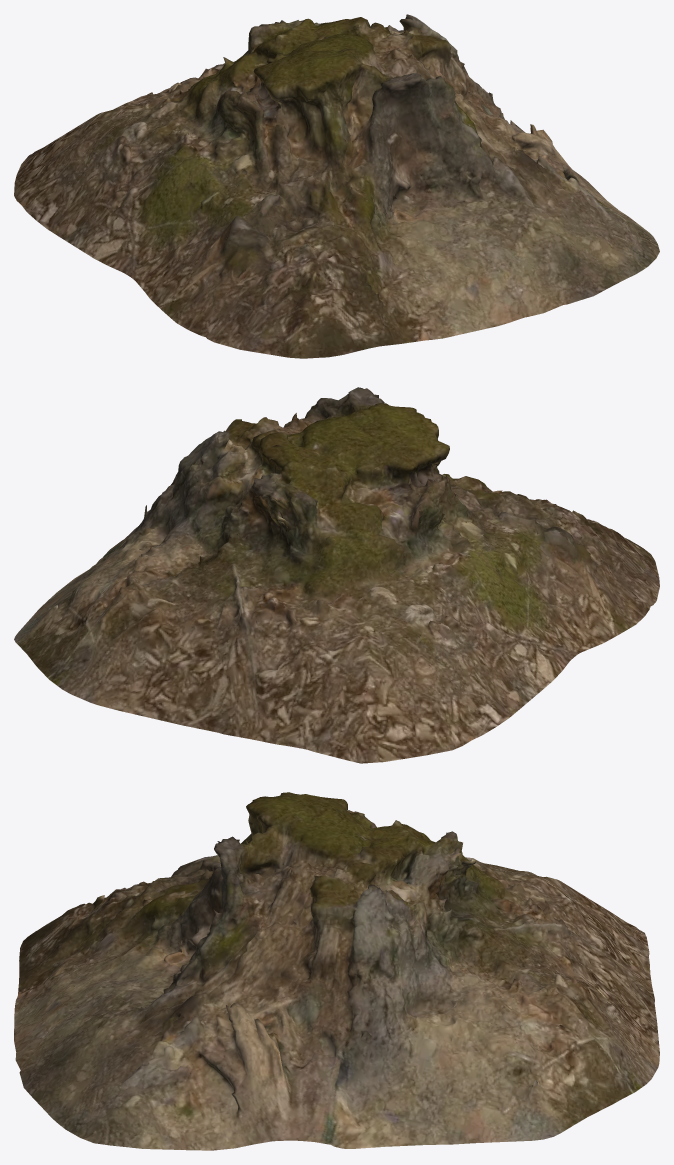
Rendered from tree_stump_01.glb.
3 views of the same model, one above another, from view 1: azimuth 30°, elevation 25°; view 2: azimuth 150°, elevation 25°; view 3: azimuth 270°, elevation 25° (orthographic). The views are drawn at different scales.
Parts seen in each view (by area): view 1: tree_stump_01; view 2: tree_stump_01; view 3: tree_stump_01.
Part boxes in pixels (box(x1,y1,x2,y2)): tree_stump_01: box(14, 14, 659, 358); tree_stump_01: box(14, 387, 659, 763); tree_stump_01: box(14, 792, 659, 1150).
Bounding box in the file's own units: 1.43 × 0.5725 × 1.59.
1 material, 1 textured.
